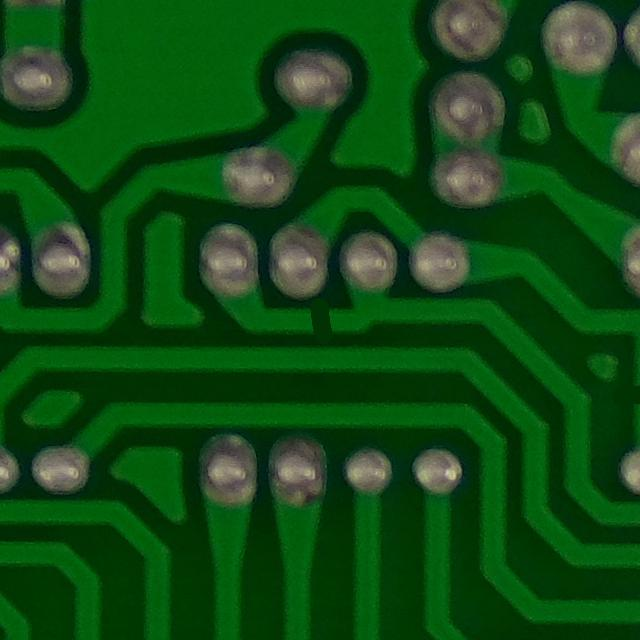open_circuit: (295, 299, 346, 342)
